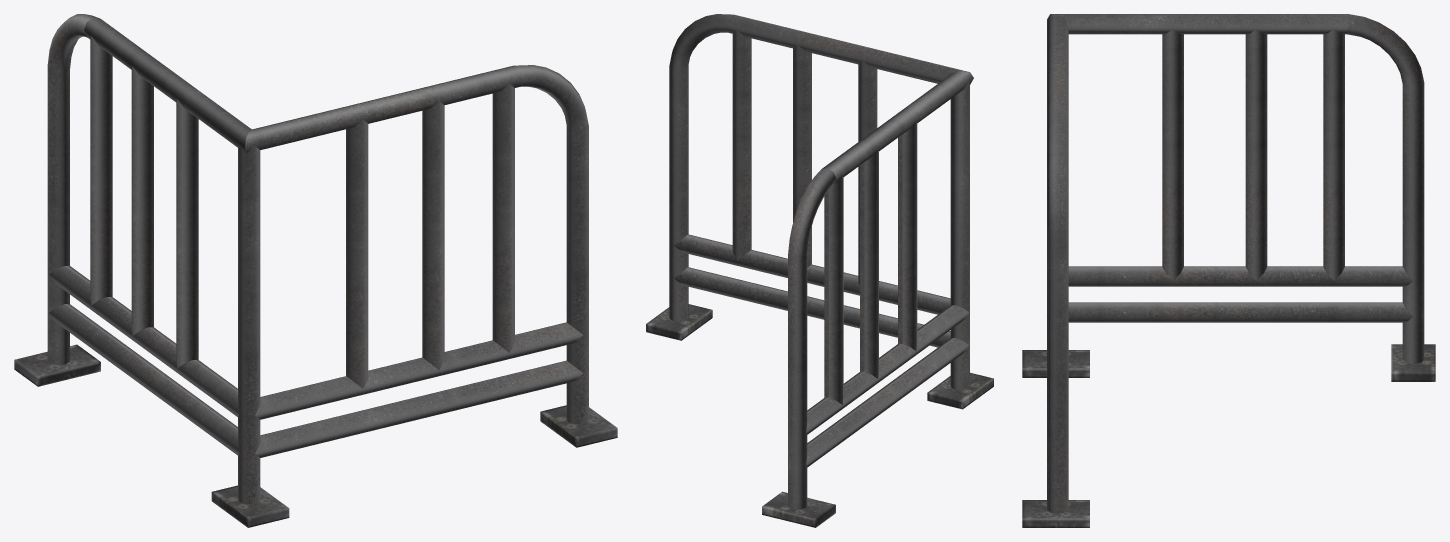
Rendered from SM_BarrierCorner.FBX.
3 views of the same model, side by side, from view 1: azimuth 30°, elevation 25°; view 2: azimuth 150°, elevation 25°; view 3: azimuth 270°, elevation 25° (orthographic). The views are drawn at different scales.
Visible parts, largest first — view 1: SM_BarrierCorner; view 2: SM_BarrierCorner; view 3: SM_BarrierCorner.
Part boxes in pixels (<box>): SM_BarrierCorner: <box>14,14,617,527</box>; SM_BarrierCorner: <box>646,14,993,527</box>; SM_BarrierCorner: <box>1022,14,1435,527</box>.
Size of the model in its own units: 163 by 163 by 154.
